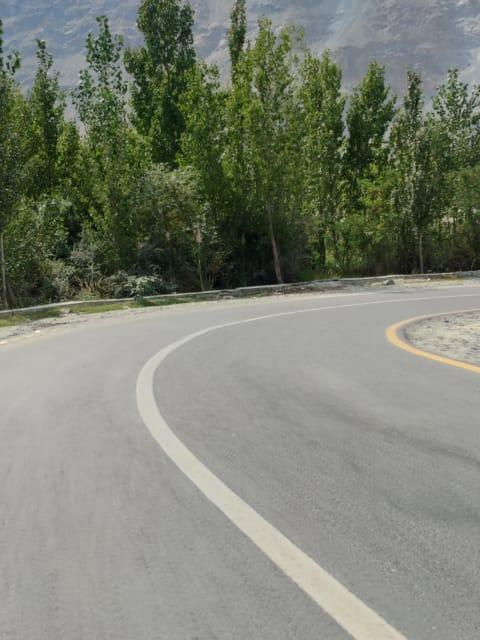right_turn: (43, 203, 480, 426)
